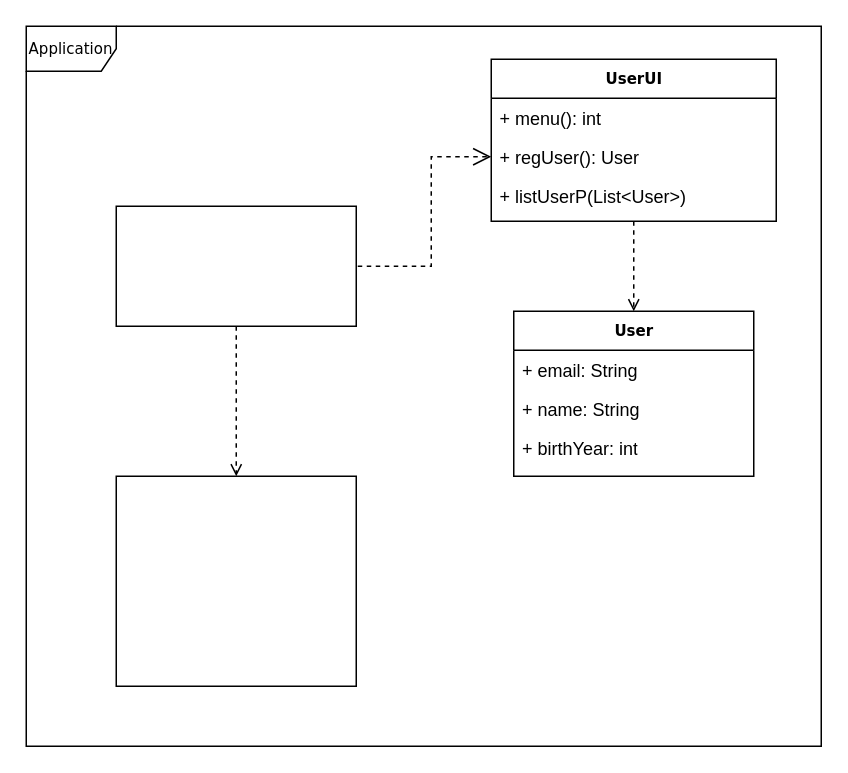
This 848x773 diagram has some shape labels left out. Here are the shapes that lost their labels. From the top down, the centre of each, then its label:
At [235,265]: "UserMain + main()".
At [235,580]: "UserDAO + UserDAO(String) + saveUser(List<User>) + loadUser(): List<User>".
